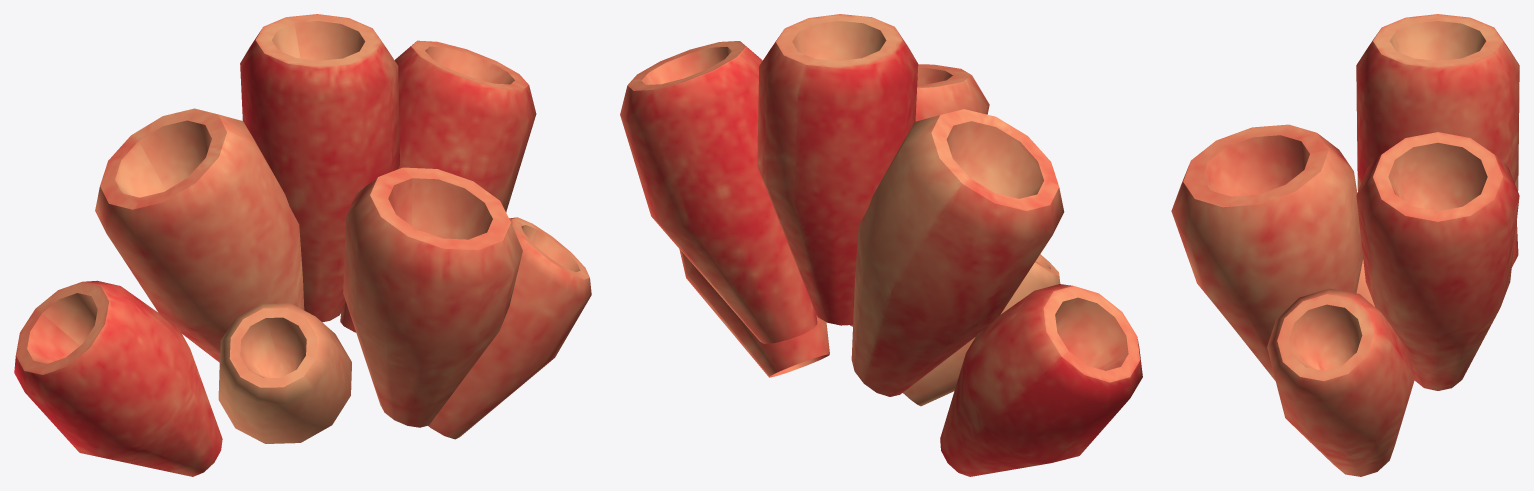
Rendered from Coral.fbx.
3 renders of one model, left to right at view 1: azimuth 30°, elevation 25°; view 2: azimuth 150°, elevation 25°; view 3: azimuth 270°, elevation 25°, orthographic.
Visible parts, largest first — view 1: polySurface15; view 2: polySurface15; view 3: polySurface15.
Part boxes in pixels (<box>): polySurface15: <box>14,14,591,476</box>; polySurface15: <box>620,14,1142,476</box>; polySurface15: <box>1171,14,1519,476</box>.
Size of the model in its own units: 132 by 99.77 by 78.56.
1 material, 1 textured.
